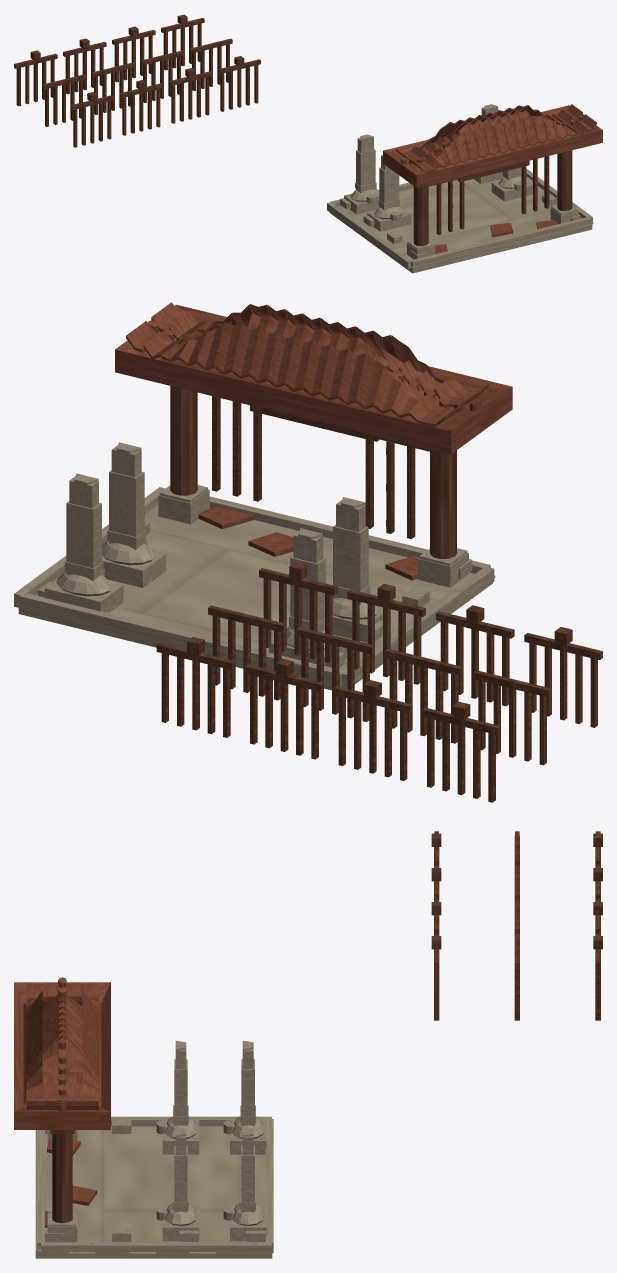
The picture shows the model from 3 angles, top to bottom: view 1: azimuth 30°, elevation 25°; view 2: azimuth 150°, elevation 25°; view 3: azimuth 270°, elevation 25°; orthographic projection. The views are drawn at different scales.
Parts seen in each view (by area): view 1: garrison_part_0006, garrison_part_0004, garrison_part_0002, garrison_part_0000, garrison_part_0005, garrison_part_0001; view 2: garrison_part_0006, garrison_part_0004, garrison_part_0002, garrison_part_0005, garrison_part_0001, garrison_part_0000; view 3: garrison_part_0002, garrison_part_0004, garrison_part_0005, garrison_part_0000, garrison_part_0006, garrison_part_0001.
Part boxes in pixels (x1=…): garrison_part_0006: x1=14, y1=14, x2=260, y2=147; garrison_part_0004: x1=383, y1=104, x2=602, y2=187; garrison_part_0002: x1=339, y1=179, x2=581, y2=259; garrison_part_0000: x1=327, y1=168, x2=593, y2=273; garrison_part_0005: x1=344, y1=104, x2=532, y2=231; garrison_part_0001: x1=407, y1=150, x2=578, y2=259; garrison_part_0006: x1=156, y1=562, x2=602, y2=802; garrison_part_0004: x1=115, y1=302, x2=512, y2=454; garrison_part_0002: x1=36, y1=485, x2=474, y2=670; garrison_part_0005: x1=44, y1=442, x2=382, y2=666; garrison_part_0001: x1=158, y1=386, x2=468, y2=587; garrison_part_0000: x1=14, y1=487, x2=495, y2=690; garrison_part_0002: x1=45, y1=1126, x2=265, y2=1242; garrison_part_0004: x1=14, y1=977, x2=110, y2=1129; garrison_part_0005: x1=156, y1=1040, x2=266, y2=1241; garrison_part_0000: x1=35, y1=1116, x2=273, y2=1258; garrison_part_0006: x1=431, y1=831, x2=602, y2=1020; garrison_part_0001: x1=47, y1=1130, x2=77, y2=1242.
Bounding box in the file's own units: 1180 × 377 × 1094.
1 material, 1 textured.
